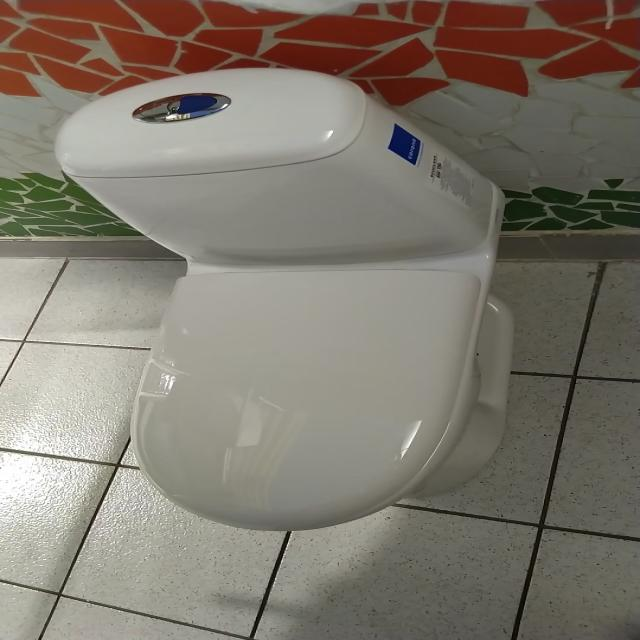toilet: (53, 66, 514, 532)
